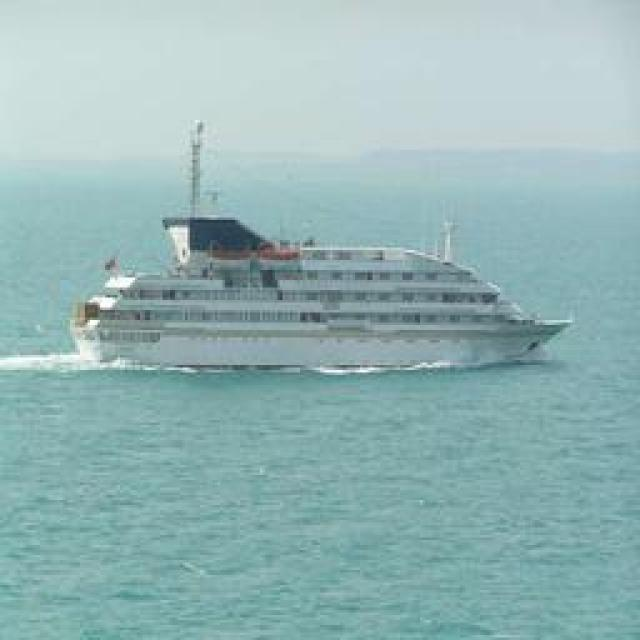Ship: (76, 222, 569, 375)
